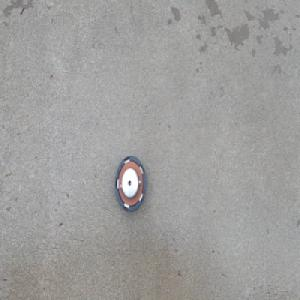FuelCap: (114, 153, 146, 213)
